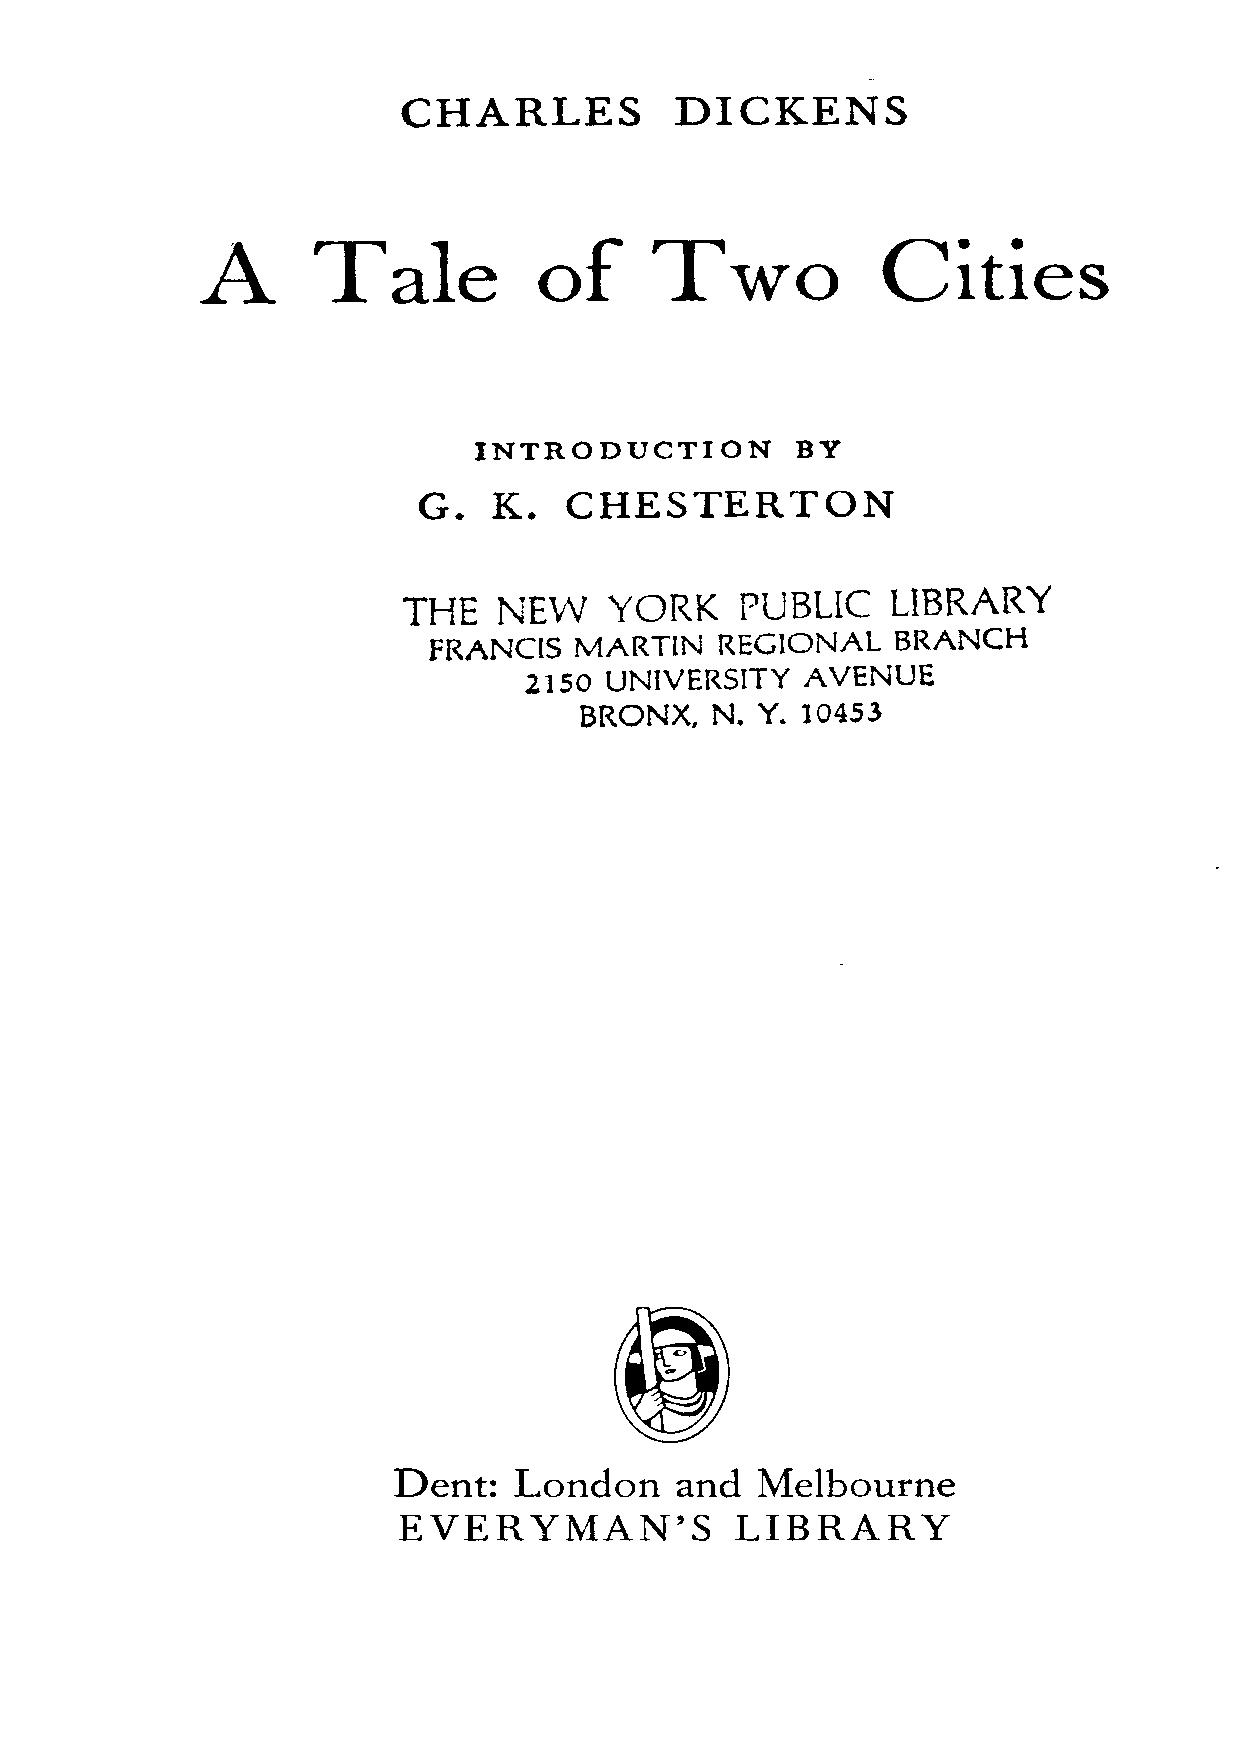author: (407, 484, 899, 523)
title: (193, 232, 1113, 309)
